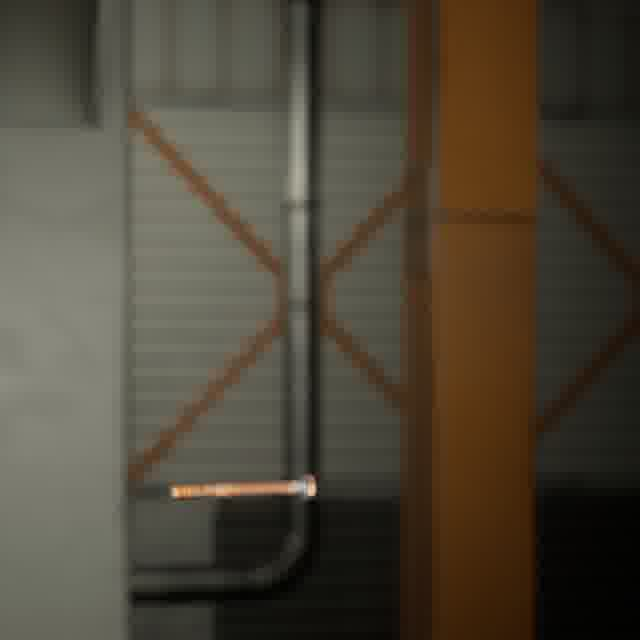bolt: (165, 469, 320, 505)
